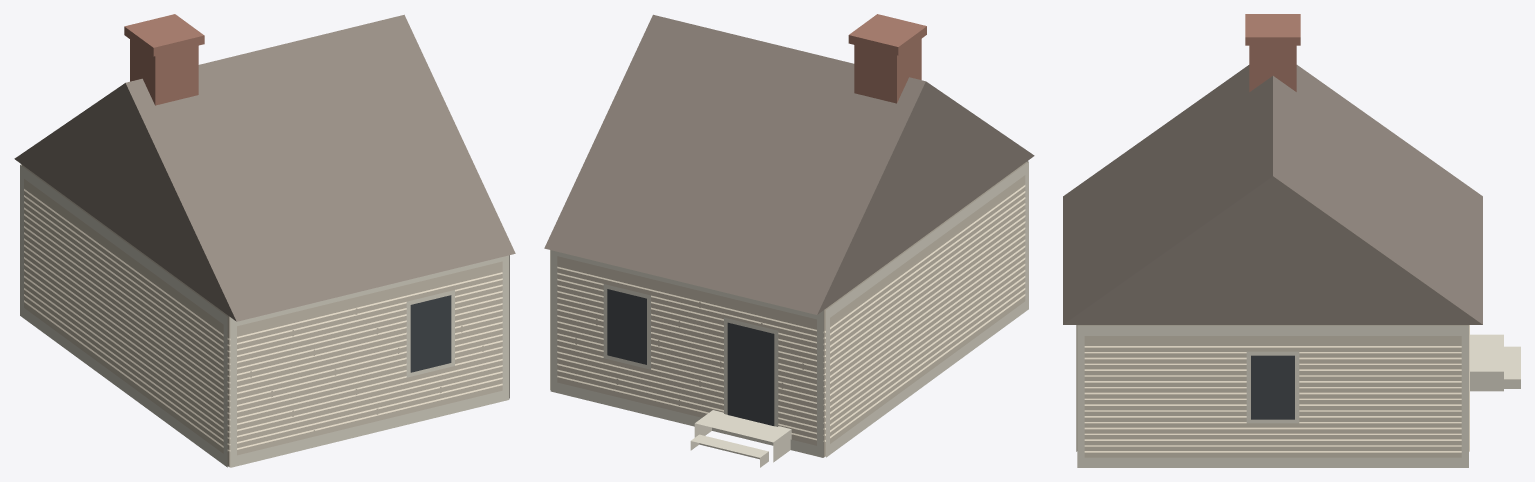
Rendered from recon_1835_south_d3_013__inferred_1835.glb.
3 views of the same model, side by side, from view 1: azimuth 30°, elevation 25°; view 2: azimuth 150°, elevation 25°; view 3: azimuth 270°, elevation 25° (orthographic). The views are drawn at different scales.
Visible parts, largest first — view 1: recon_1835_south_d3_013__inferred_1835; view 2: recon_1835_south_d3_013__inferred_1835; view 3: recon_1835_south_d3_013__inferred_1835.
Part boxes in pixels (bbox=[...]): recon_1835_south_d3_013__inferred_1835: bbox=[14, 14, 515, 467]; recon_1835_south_d3_013__inferred_1835: bbox=[544, 14, 1034, 467]; recon_1835_south_d3_013__inferred_1835: bbox=[1063, 14, 1520, 467].
Size of the model in its own units: 5.46 by 6.46 by 8.1.
